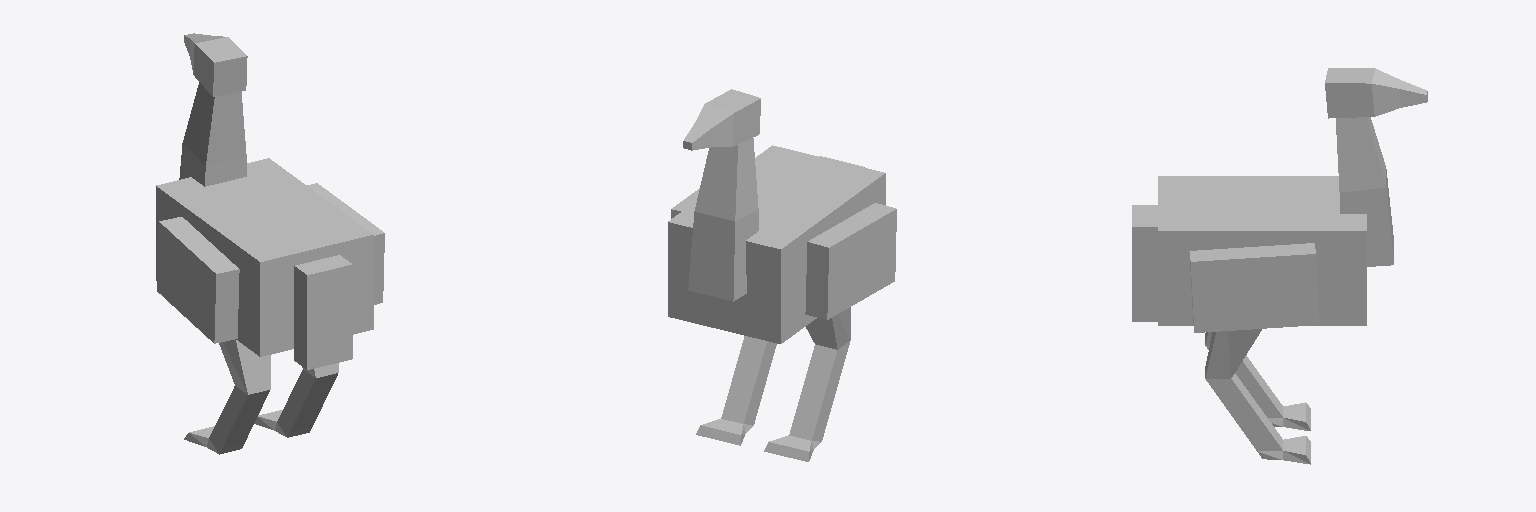
Rendered from Ostrich_000052.obj.
The picture shows the model from 3 angles: view 1: azimuth 30°, elevation 25°; view 2: azimuth 150°, elevation 25°; view 3: azimuth 270°, elevation 25°; orthographic projection.
Parts seen in each view (by area): view 1: Cube_Cube.001; view 2: Cube_Cube.001; view 3: Cube_Cube.001.
Part boxes in pixels (bbox=[...]): Cube_Cube.001: bbox=[156, 33, 384, 454]; Cube_Cube.001: bbox=[668, 89, 896, 461]; Cube_Cube.001: bbox=[1132, 68, 1427, 464].
Bounding box in the file's own units: 0.7449 × 1.53 × 1.13.